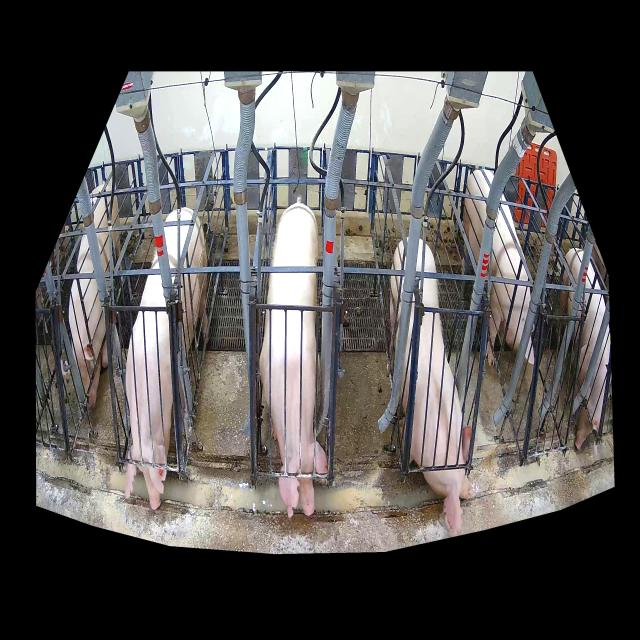pig: (389, 236, 475, 535), (125, 208, 208, 510), (260, 202, 328, 517), (461, 170, 534, 366), (68, 184, 120, 409), (560, 249, 611, 451)
